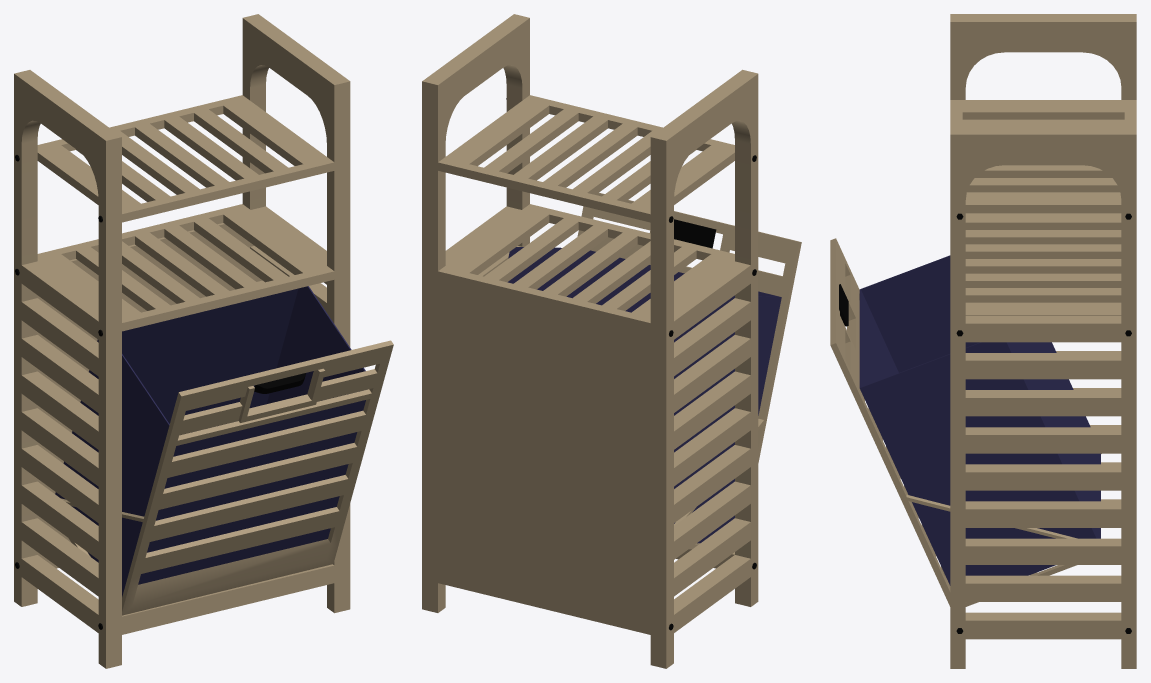
File: Cesto de ropa .fbx
The picture shows the model from 3 angles, left to right: view 1: azimuth 30°, elevation 25°; view 2: azimuth 150°, elevation 25°; view 3: azimuth 270°, elevation 25°; orthographic projection.
Visible parts, largest first — view 1: Cesto Ropa Sucia, Cajon; view 2: Cesto Ropa Sucia, Cajon; view 3: Cesto Ropa Sucia, Cajon.
Part boxes in pixels (x1,y1,x2,y2): Cesto Ropa Sucia: [14, 14, 350, 668]; Cajon: [55, 286, 393, 615]; Cesto Ropa Sucia: [422, 14, 758, 668]; Cajon: [507, 192, 801, 549]; Cesto Ropa Sucia: [950, 14, 1136, 668]; Cajon: [830, 238, 1101, 606].
Bounding box in the file's own units: 46.58 × 95 × 49.36.
